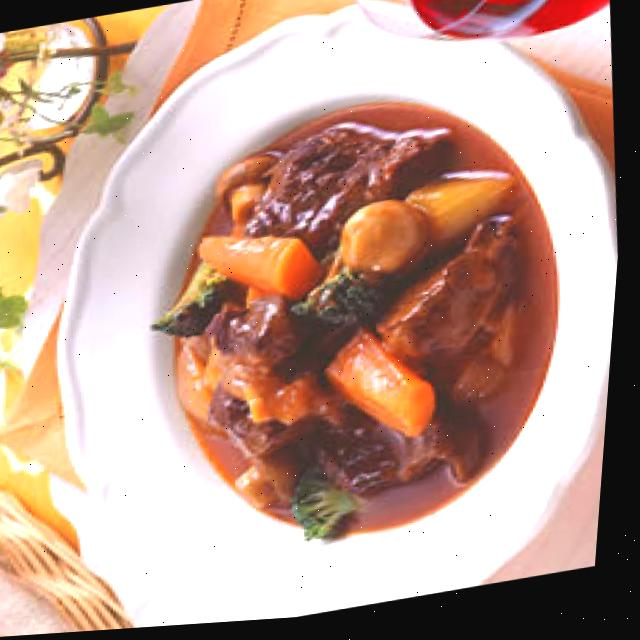汤锅炖物: (19, 32, 636, 637)
